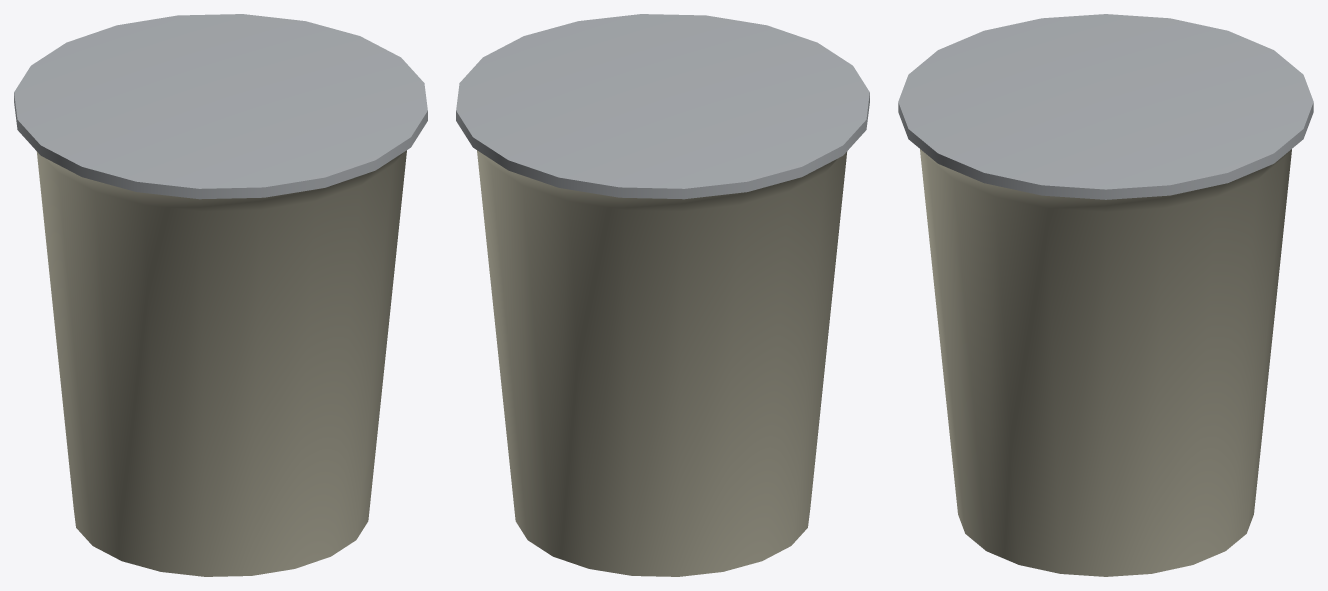
File: mkt-yogurt-cup.glb
3 views of the same model, side by side, from view 1: azimuth 30°, elevation 25°; view 2: azimuth 150°, elevation 25°; view 3: azimuth 270°, elevation 25° (orthographic).
Visible parts, largest first — view 1: pack__plastic, foil-lid__metal; view 2: pack__plastic, foil-lid__metal; view 3: pack__plastic, foil-lid__metal.
Part boxes in pixels (bbox=[...]): pack__plastic: bbox=[36, 150, 406, 576]; foil-lid__metal: bbox=[14, 14, 427, 199]; pack__plastic: bbox=[477, 150, 847, 576]; foil-lid__metal: bbox=[456, 14, 869, 199]; pack__plastic: bbox=[920, 149, 1291, 576]; foil-lid__metal: bbox=[898, 14, 1313, 199].
Size of the model in its own units: 0.073 by 0.081 by 0.073.
